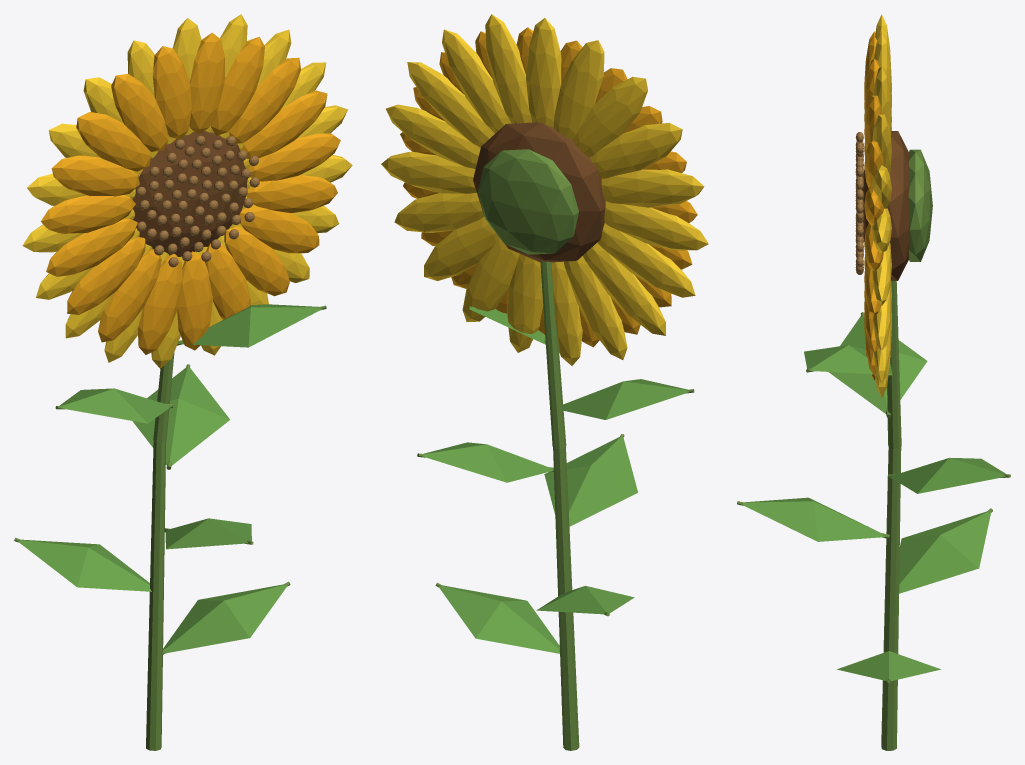
File: sunflower-1.glb
3 renders of one model, left to right at view 1: azimuth 30°, elevation 25°; view 2: azimuth 150°, elevation 25°; view 3: azimuth 270°, elevation 25°, orthographic.
Visible parts, largest first — view 1: sunflower-1; view 2: sunflower-1; view 3: sunflower-1.
Part boxes in pixels (x1,y1,x2,y2): sunflower-1: [14, 14, 352, 750]; sunflower-1: [381, 14, 708, 750]; sunflower-1: [737, 14, 1010, 750].
Size of the model in its own units: 1.32 by 2.76 by 0.9364.
